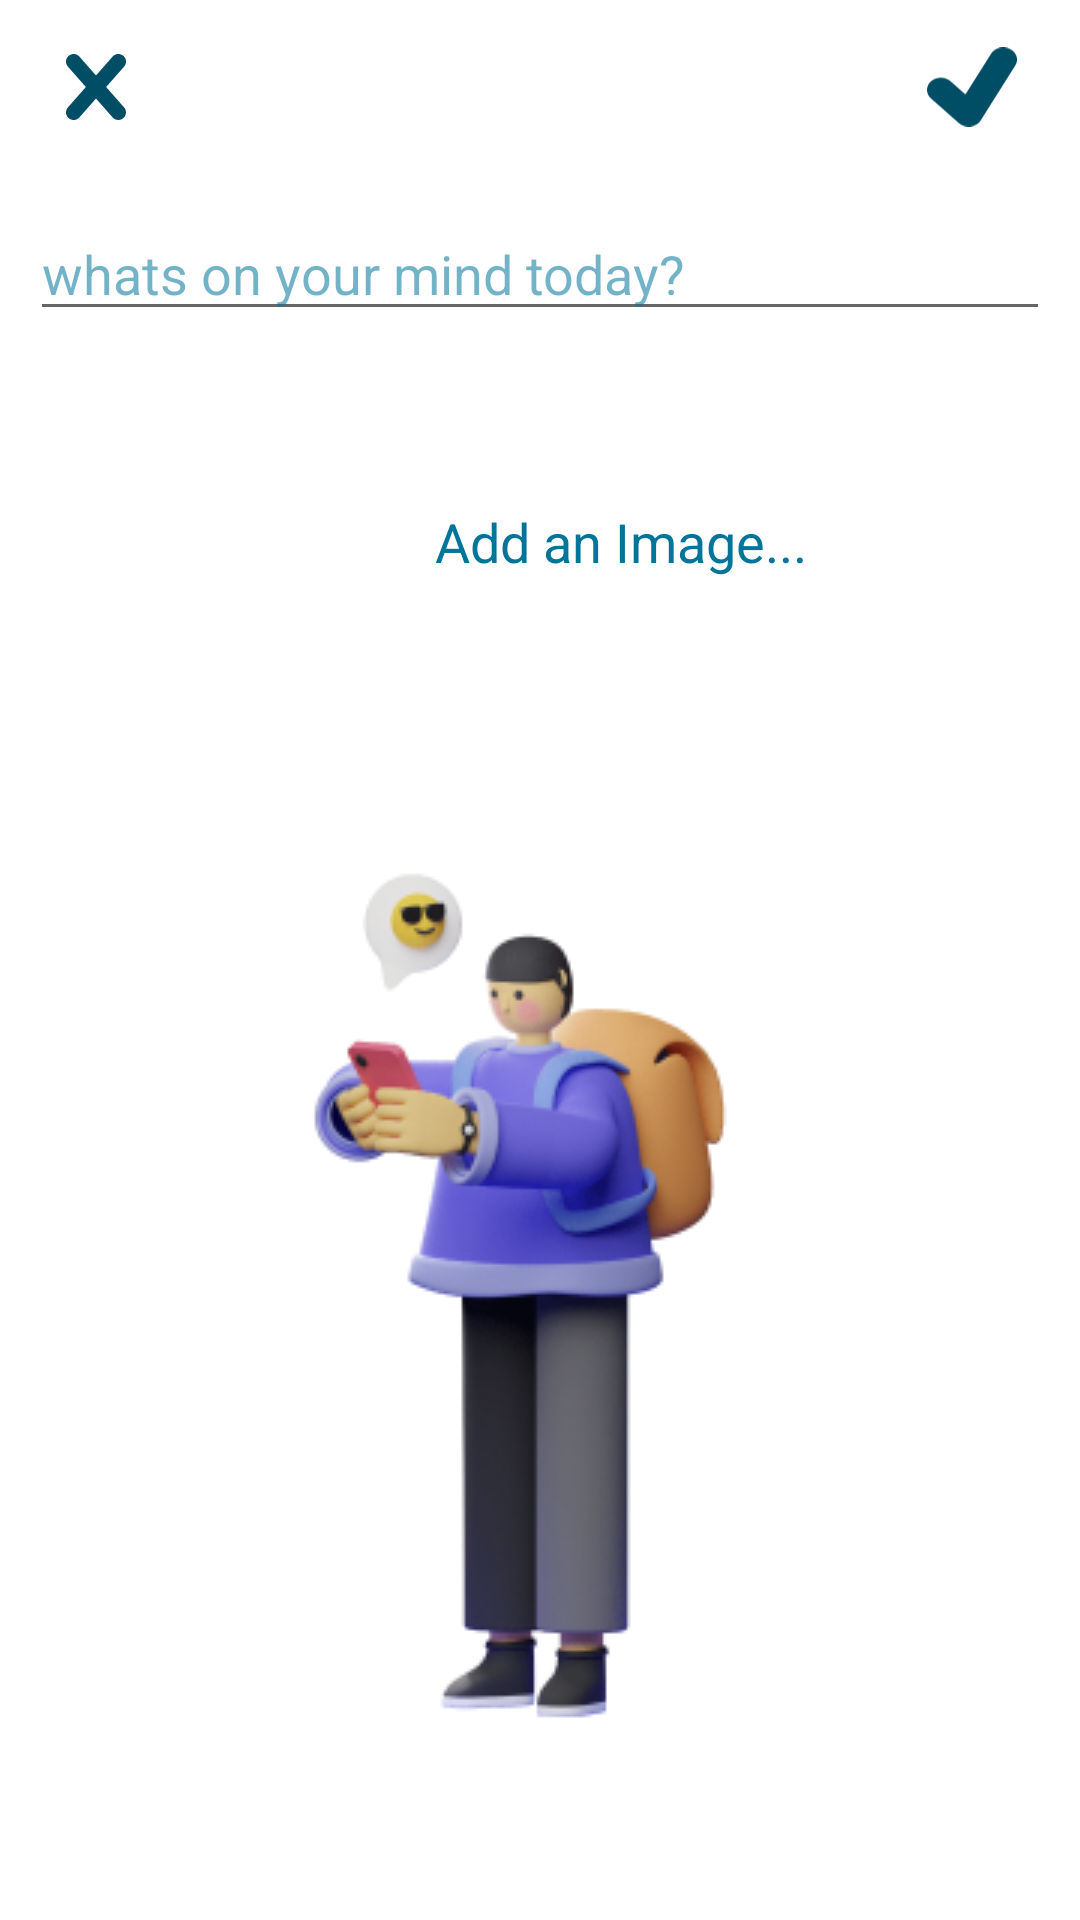

Locate icon controls on the screen. Image size 1080x1920, boxes as Rect(x1, y1, x2, y2).
cross: Rect(66, 54, 126, 120)
tick: Rect(927, 47, 1017, 127)
